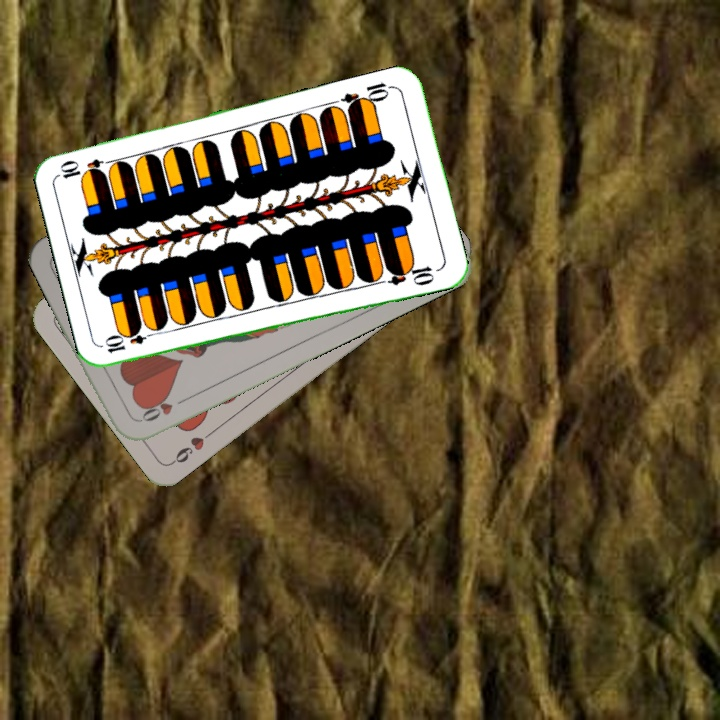E10: (338, 77, 397, 114), (101, 326, 160, 356)
H9: (167, 425, 218, 467)
HO: (133, 390, 190, 426)
